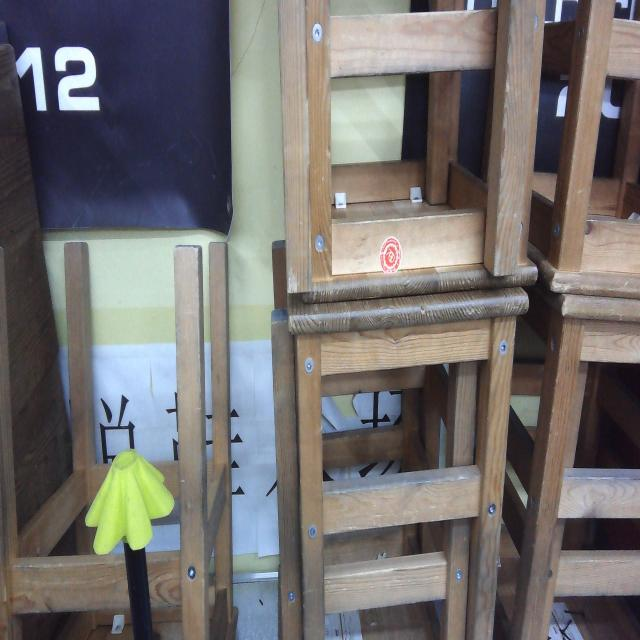Yellow-Stake-Head: (85, 448, 175, 556)
